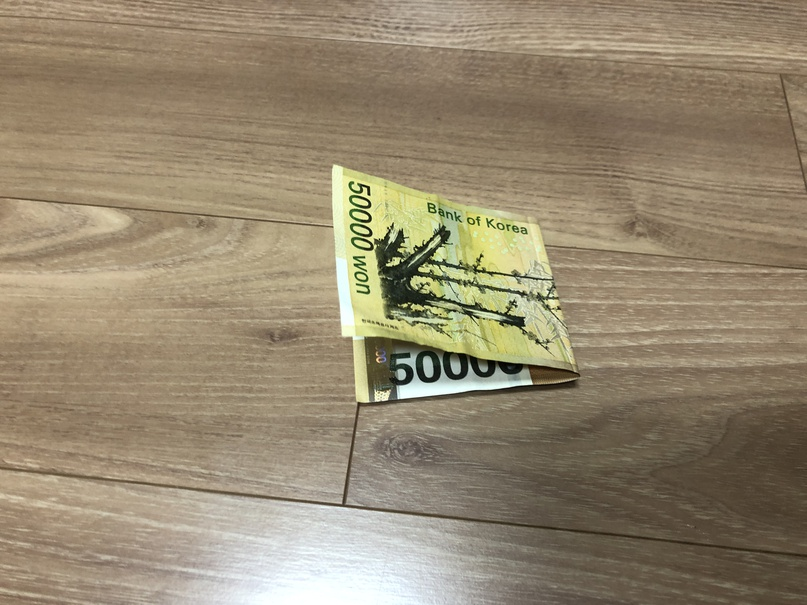50000won: (332, 165, 580, 405)
